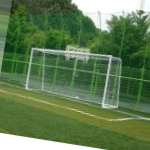goals: (23, 46, 124, 111)
